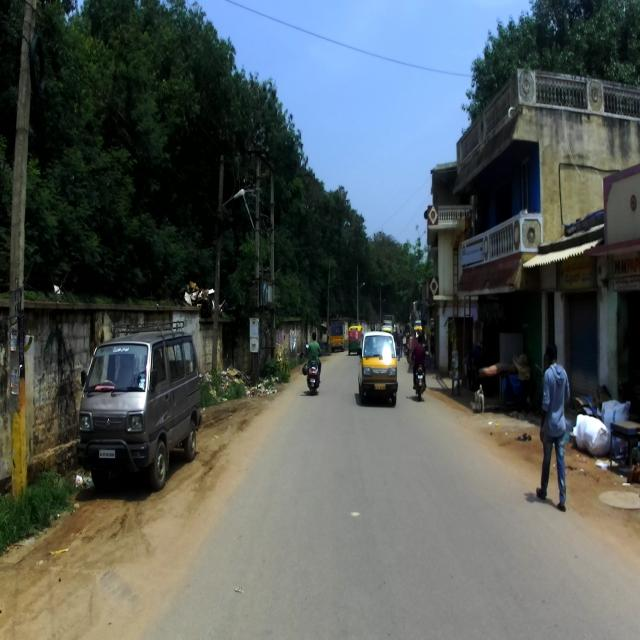car: (76, 320, 202, 492), (356, 326, 402, 413)
scooter: (304, 343, 322, 396)
